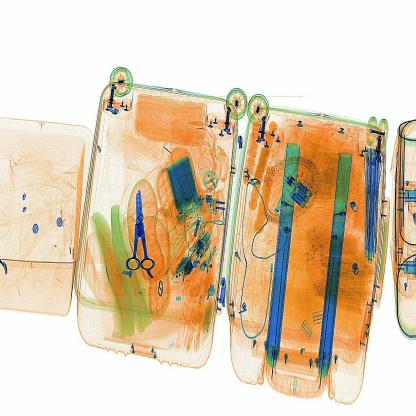gun: (120, 180, 162, 284)
